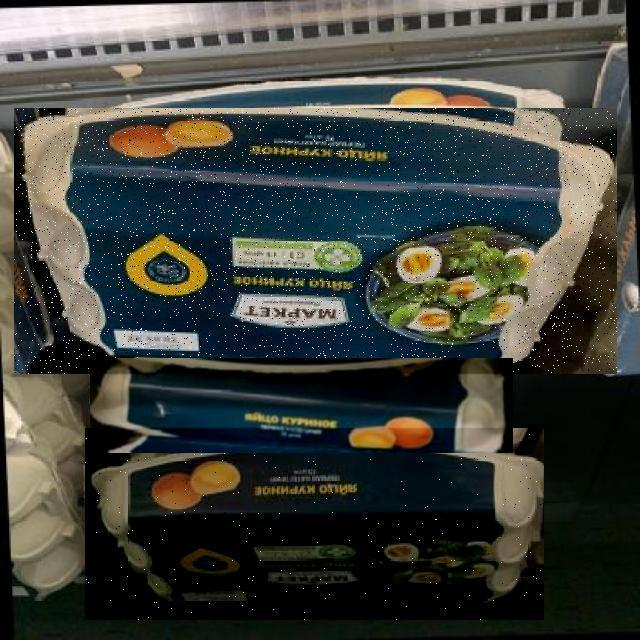Eggs: (14, 109, 617, 375), (85, 429, 544, 621), (90, 358, 513, 453)
